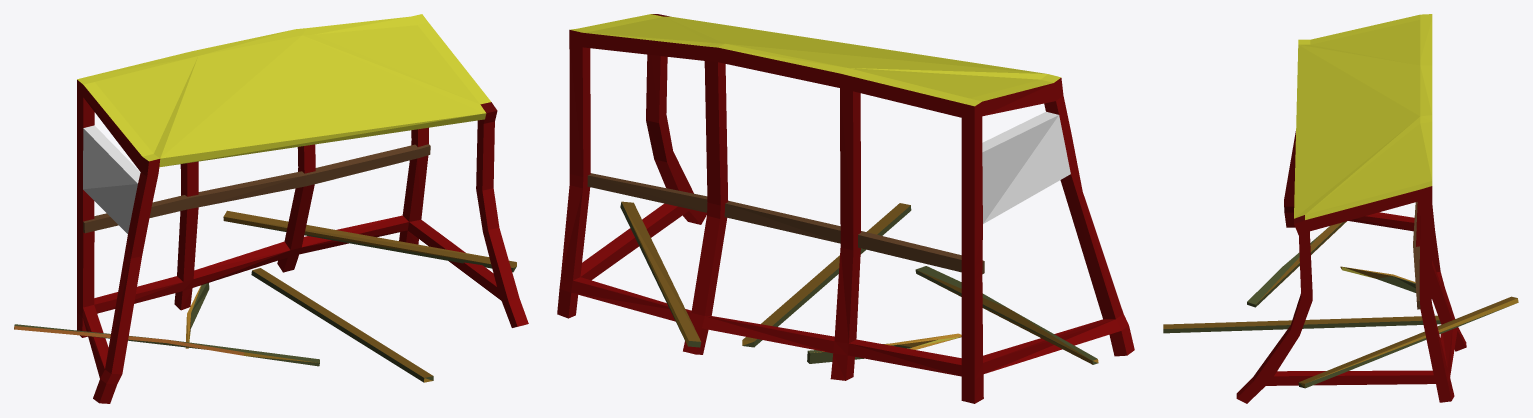
Rendered from Model_Zdemolowany_Przystanek.fbx.
The picture shows the model from 3 angles, left to right: view 1: azimuth 30°, elevation 25°; view 2: azimuth 150°, elevation 25°; view 3: azimuth 270°, elevation 25°; orthographic projection. The views are drawn at different scales.
Visible parts, largest first — view 1: Cube; view 2: Cube; view 3: Cube.
Boxes of the visible parts, <box> form: Cube: <box>14,14,528,403</box>; Cube: <box>557,14,1134,403</box>; Cube: <box>1163,14,1518,403</box>.
Bounding box in the file's own units: 291 × 213 × 395.
